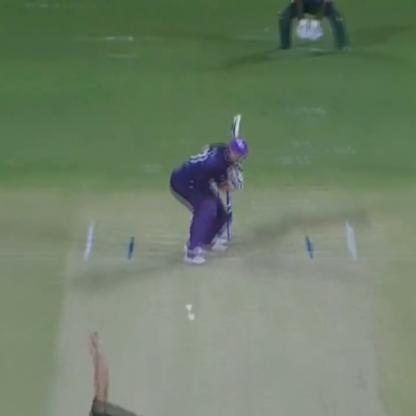ball: (184, 308, 198, 323), (178, 302, 196, 311)
bat: (223, 108, 249, 136)
pitch: (51, 208, 381, 415)
